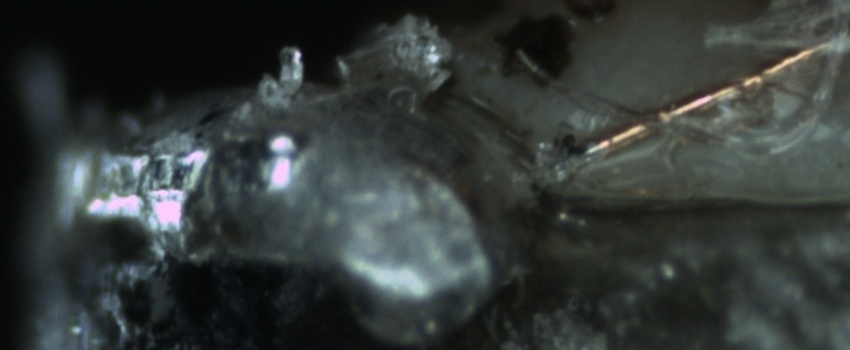TS: (542, 140, 602, 189)
